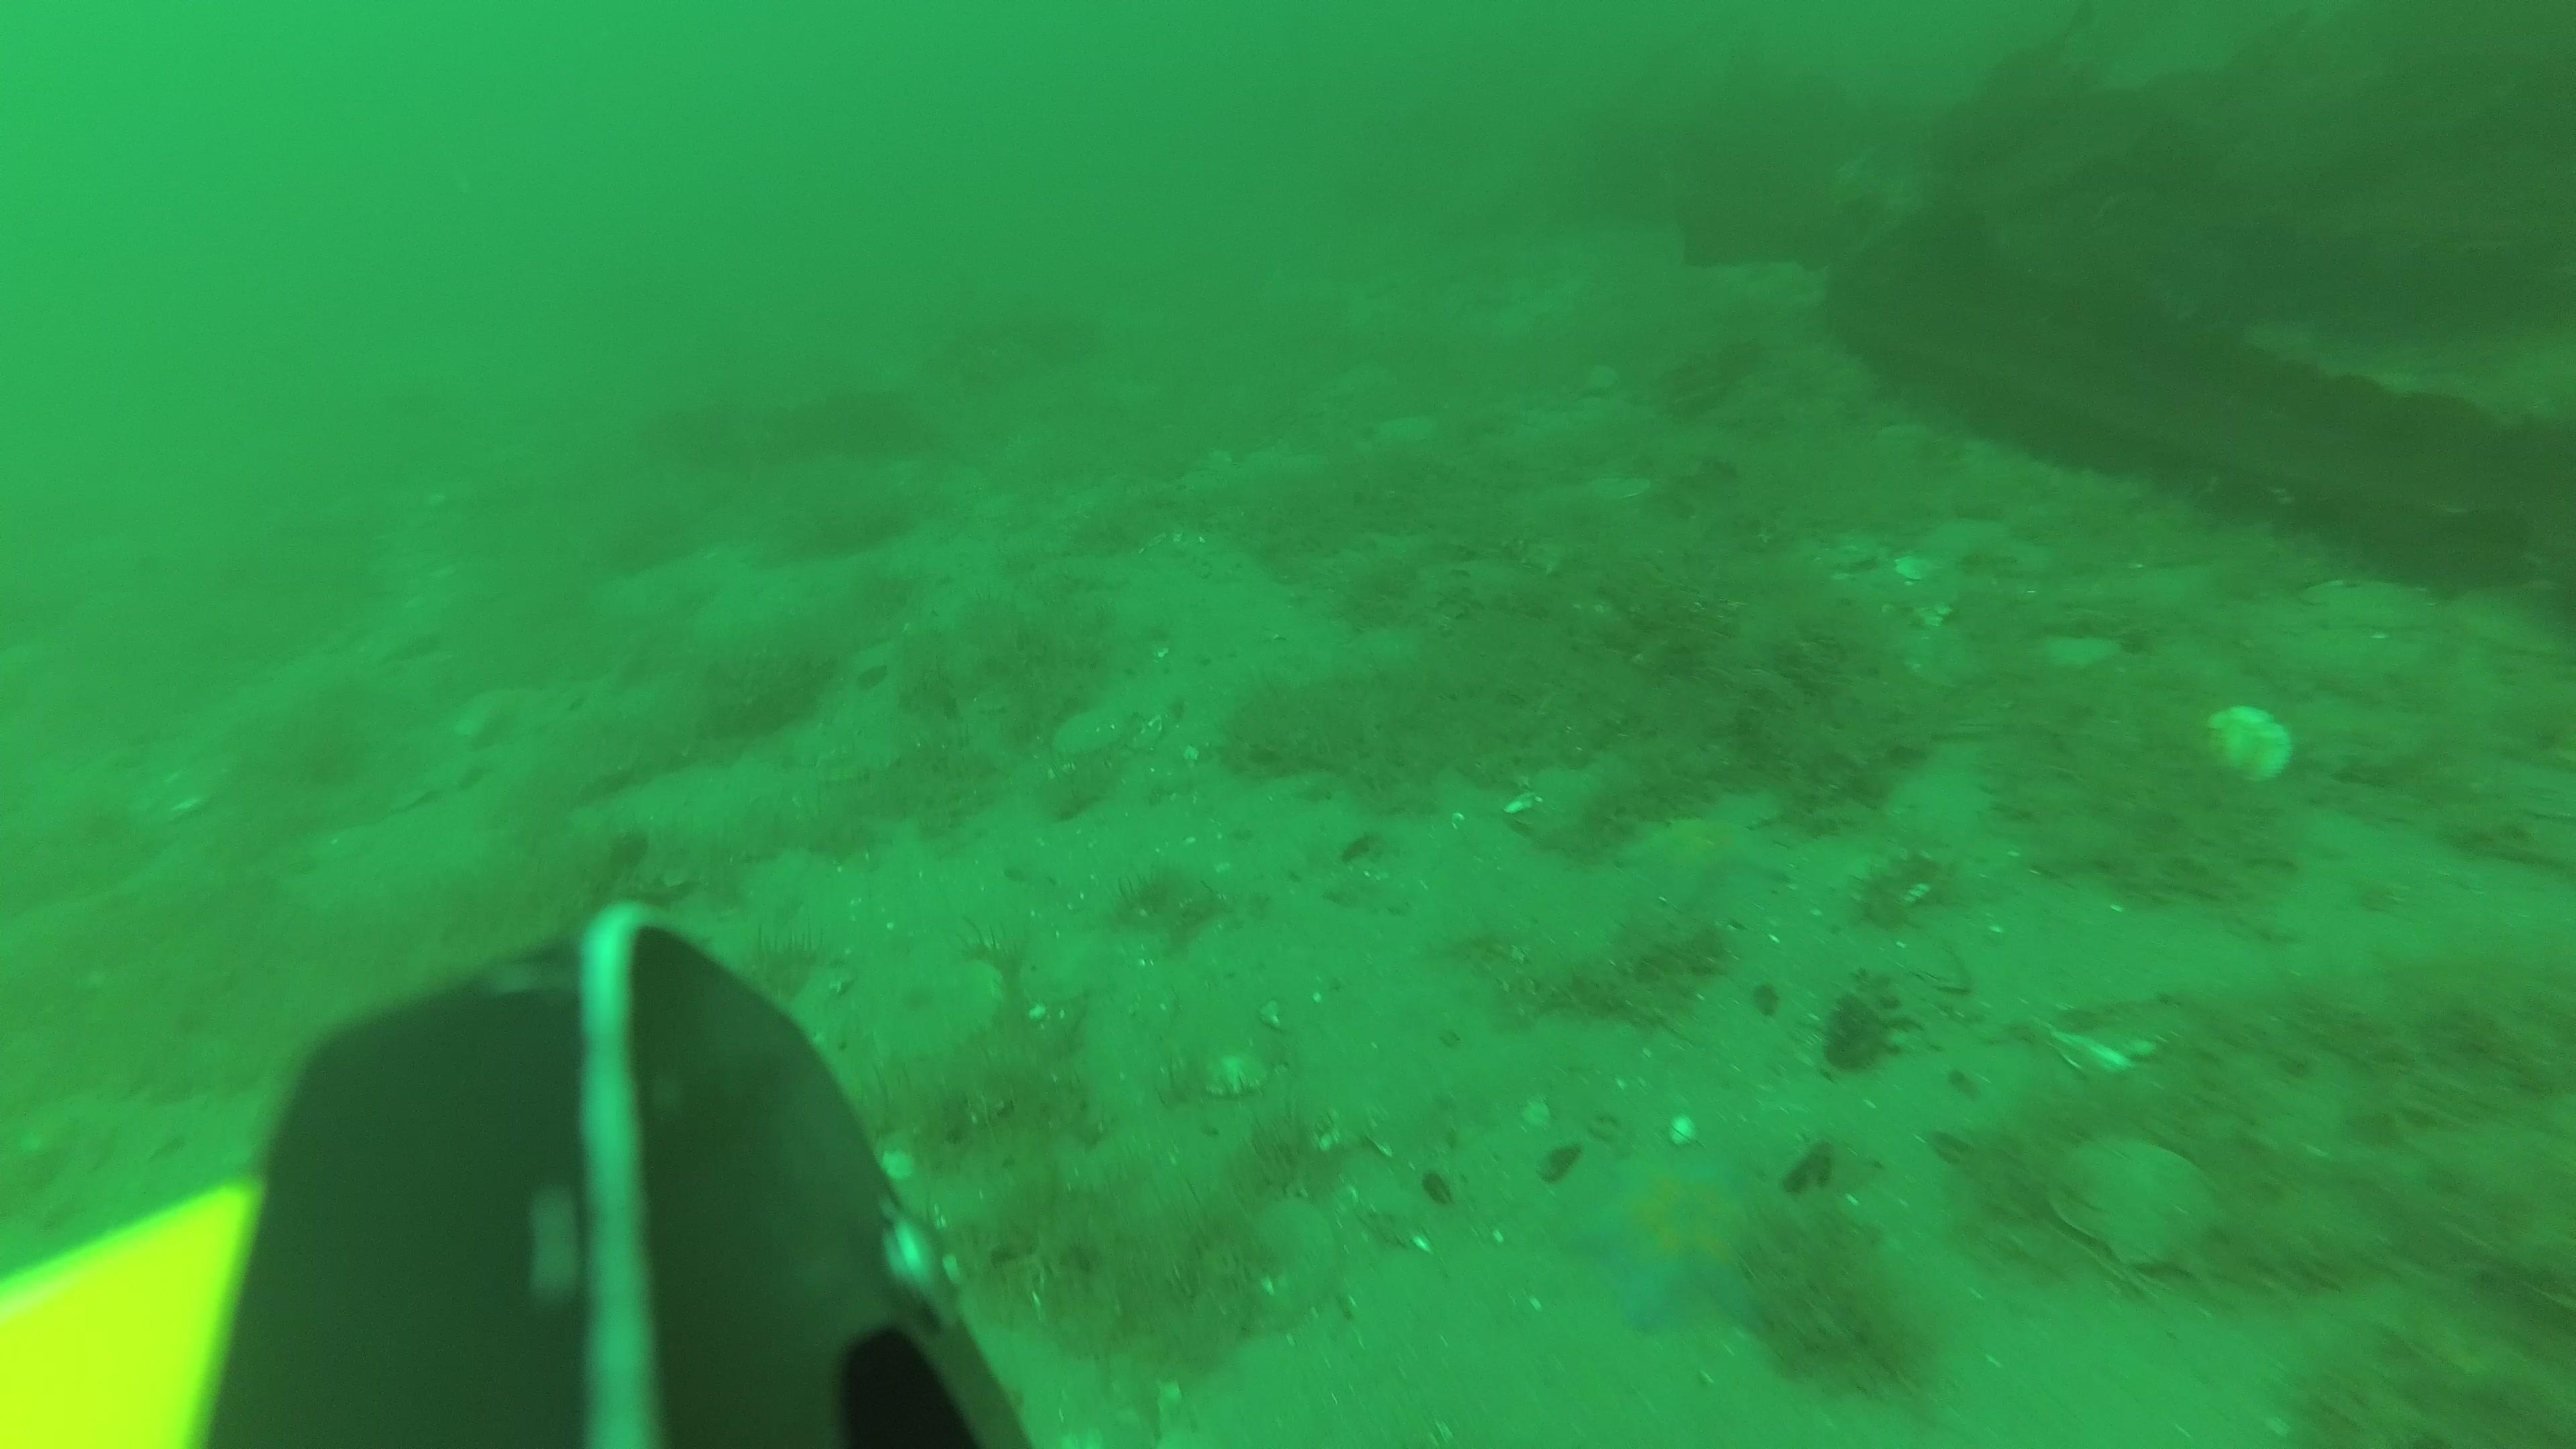scallop: (2040, 1129, 2210, 1272), (2212, 706, 2291, 786)
starfish: (1569, 1150, 1771, 1322), (1619, 807, 1789, 911)
